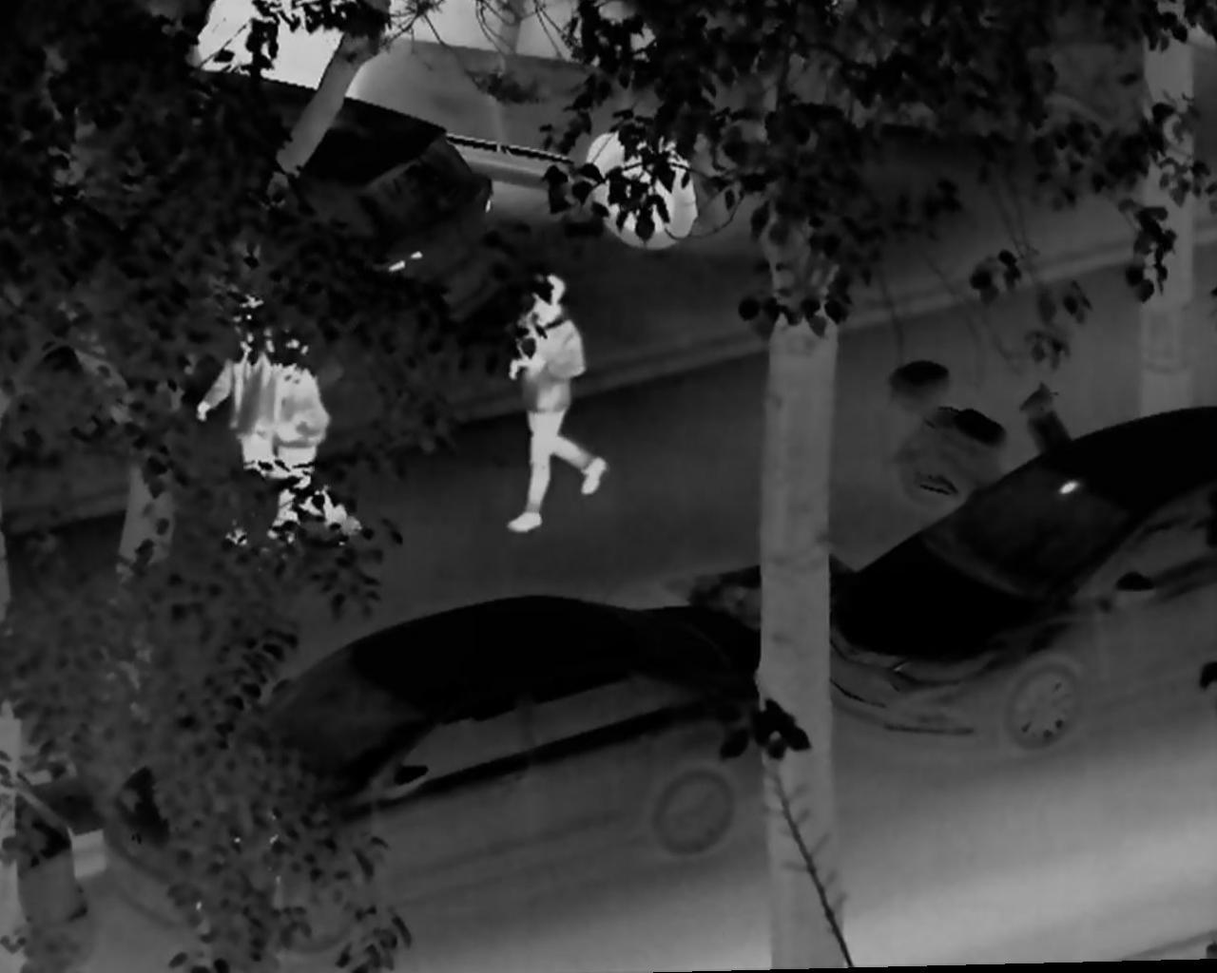person: (483, 270, 608, 536), (193, 285, 293, 551), (253, 333, 361, 563)
